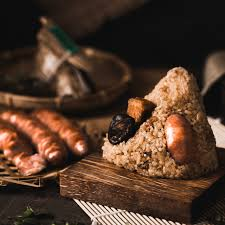zongzi: (102, 67, 217, 178)
